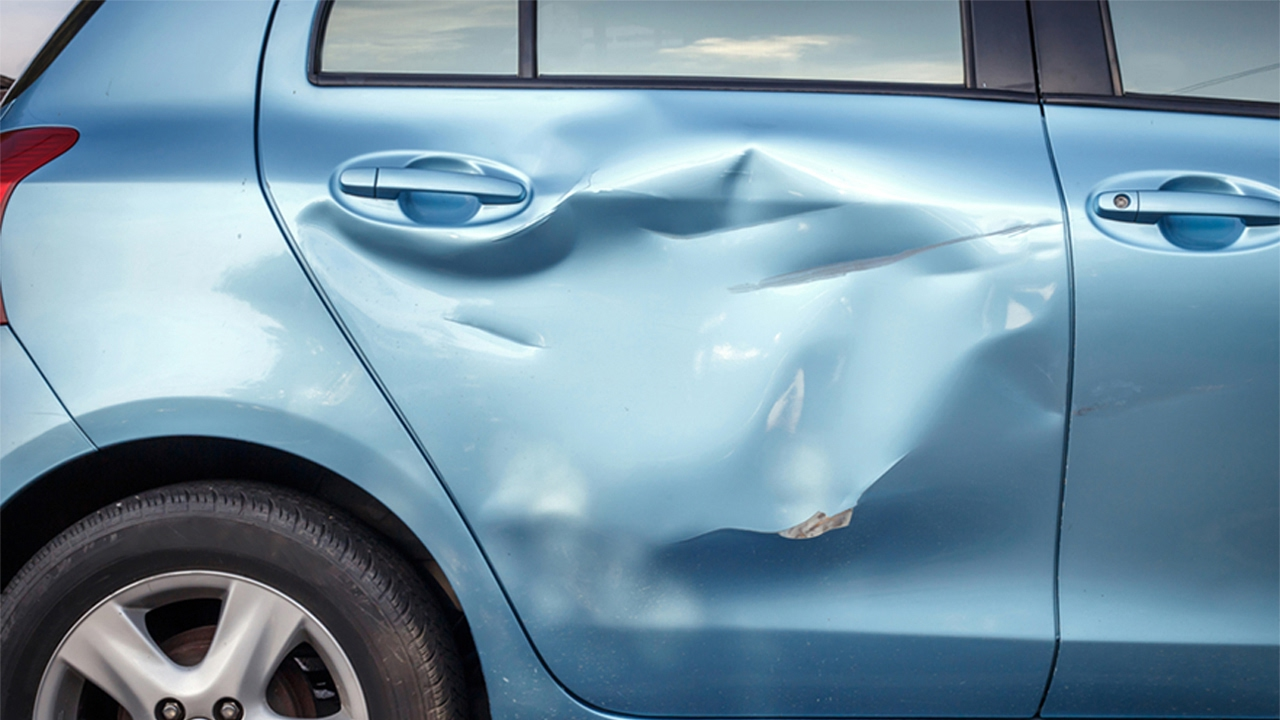car_dent: (502, 143, 1022, 544)
